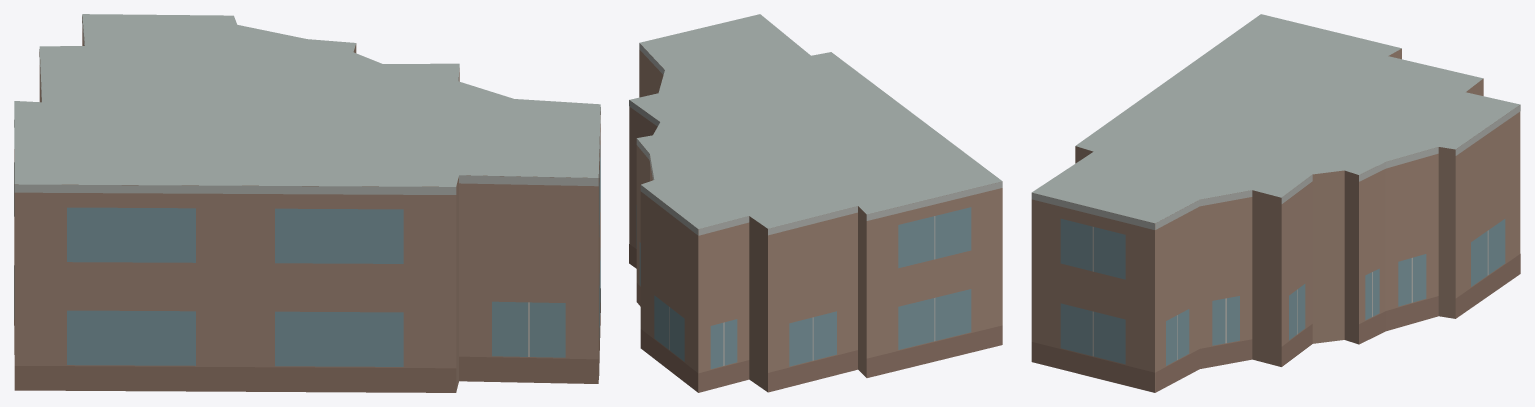
The model's file is survey-upis-32608448.glb.
3 views of the same model, side by side, from view 1: azimuth 30°, elevation 25°; view 2: azimuth 150°, elevation 25°; view 3: azimuth 270°, elevation 25° (orthographic). The views are drawn at different scales.
Parts seen in each view (by area): view 1: survey-upis-32608448.tmp; view 2: survey-upis-32608448.tmp; view 3: survey-upis-32608448.tmp.
Boxes of the visible parts, x1,y1,x2,y2 form: survey-upis-32608448.tmp: (14,14,600,392); survey-upis-32608448.tmp: (629,14,1002,392); survey-upis-32608448.tmp: (1031,14,1520,392).
Size of the model in its own units: 16.18 by 6.1 by 15.96.
